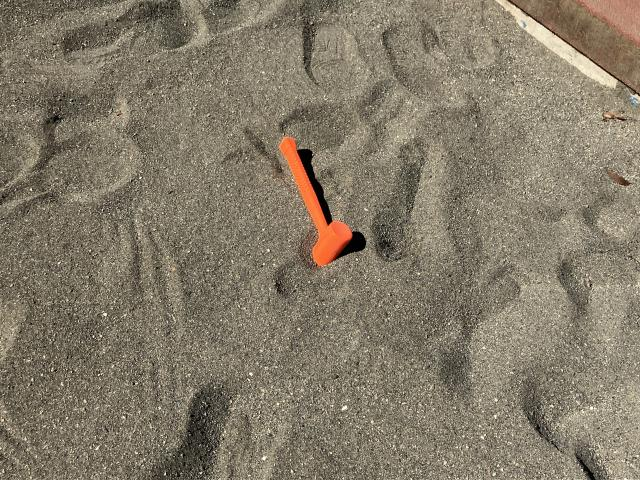hammer: (278, 137, 352, 264)
